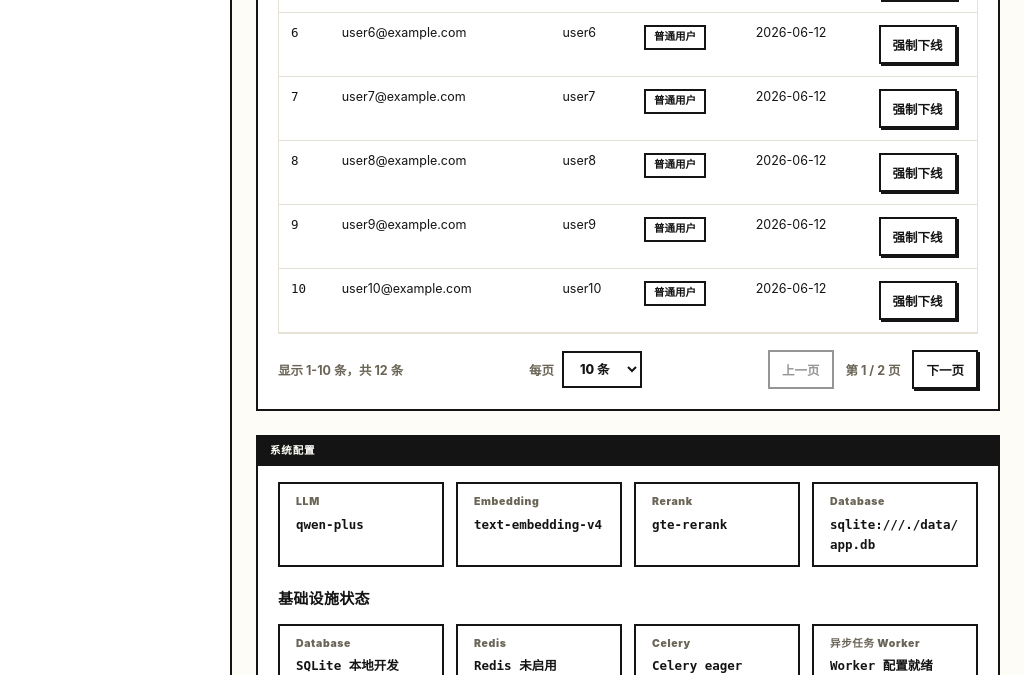
admin page › paginates account management and supports changing page size
The width and height of the screenshot is (1024, 675).
(page scrolled)
Step 1. Click the button with aria-label "下一页账号" → [945, 370], box x1=912 y1=350 x2=978 y2=389
(page scrolled)
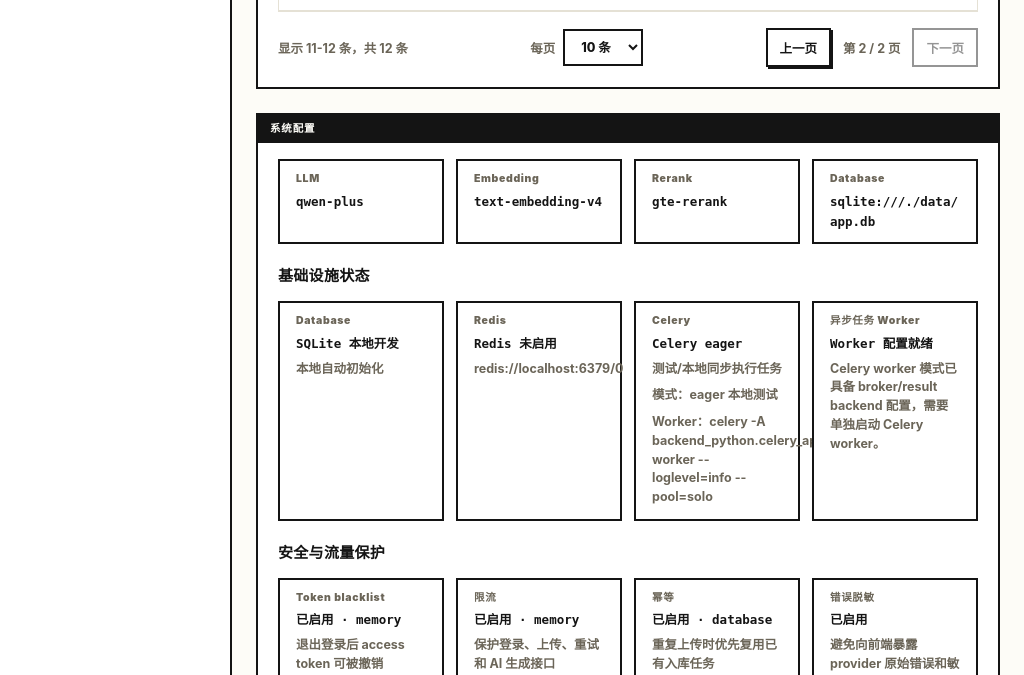
Expected: the text "第 2 / 2 页" is shown, x1=843 y1=38 x2=900 y2=57
Expected: the text "显示 11-12 条，共 12 条" is shown, x1=278 y1=38 x2=408 y2=57
Step 2. Select "5 条" in the dropdown named "每页显示账号数量" → [603, 47], box x1=563 y1=29 x2=643 y2=66
(page scrolled)
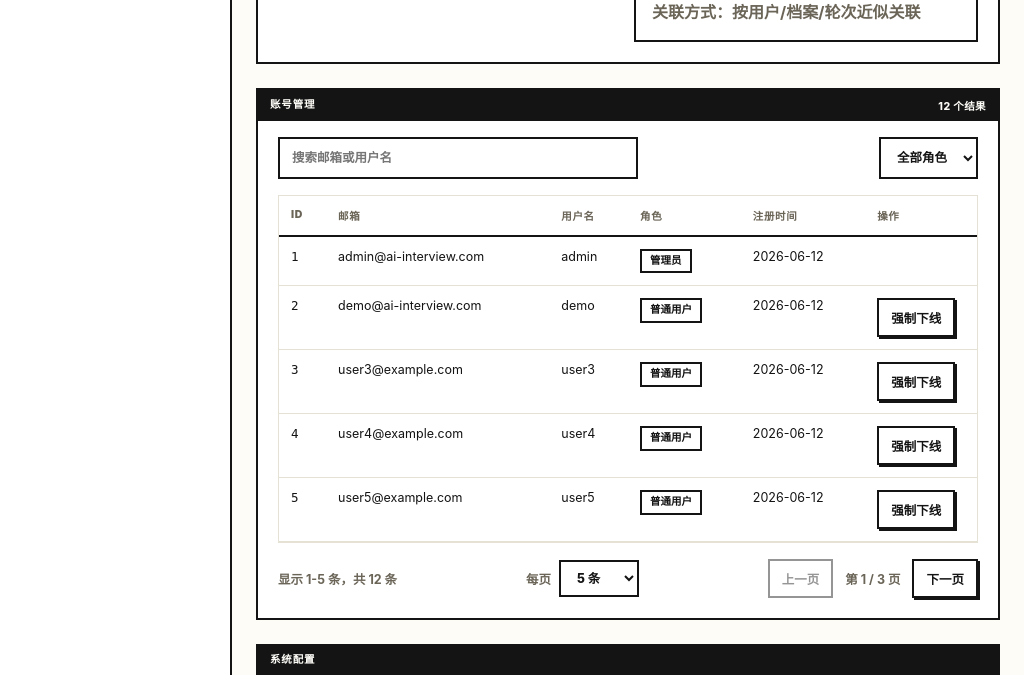
Expected: the text "第 1 / 3 页" is shown, x1=845 y1=569 x2=900 y2=588
Expected: the text "显示 1-5 条，共 12 条" is shown, x1=278 y1=569 x2=397 y2=588
Expected: the table shows "admin@ai-interview.com", x1=338 y1=249 x2=484 y2=264
